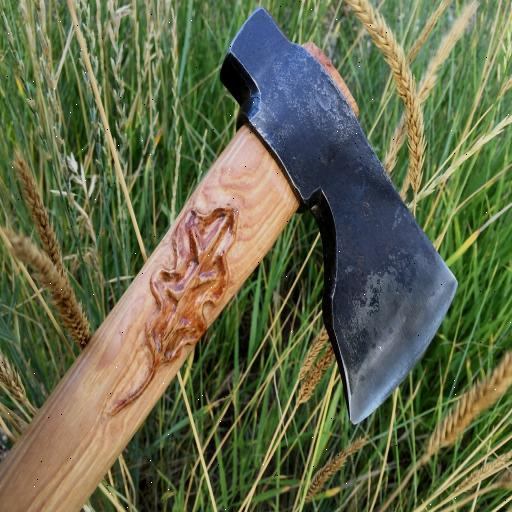Axe: (0, 9, 460, 512)
